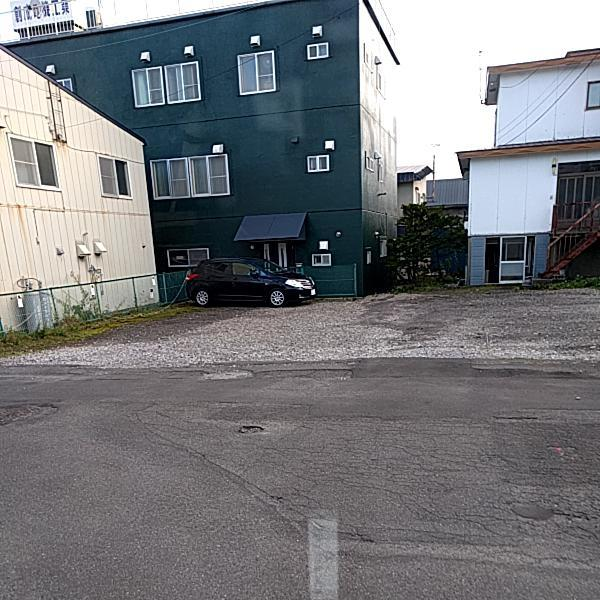D20: (284, 412, 599, 563)
D40: (228, 416, 266, 440)
D50: (0, 402, 42, 424), (202, 366, 249, 379)
